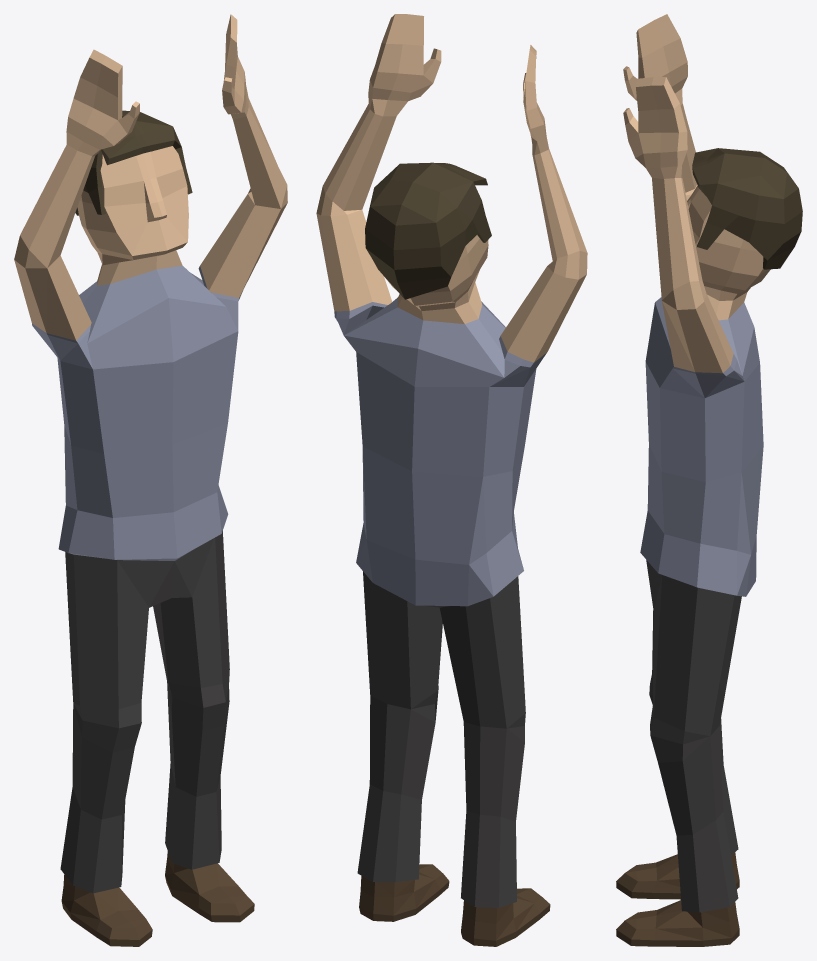
The model's file is Male_Crowd_ClappingOverhead.glb.
3 views of the same model, side by side, from view 1: azimuth 30°, elevation 25°; view 2: azimuth 150°, elevation 25°; view 3: azimuth 270°, elevation 25° (orthographic). The views are drawn at different scales.
Visible parts, largest first — view 1: Male_Crowd_ClappingOverhead; view 2: Male_Crowd_ClappingOverhead; view 3: Male_Crowd_ClappingOverhead.
Part boxes in pixels (x1,y1,x2,y2): Male_Crowd_ClappingOverhead: (14, 14, 287, 946); Male_Crowd_ClappingOverhead: (316, 14, 587, 946); Male_Crowd_ClappingOverhead: (616, 14, 802, 946).
Bounding box in the file's own units: 0.6416 × 2.05 × 0.3993.
